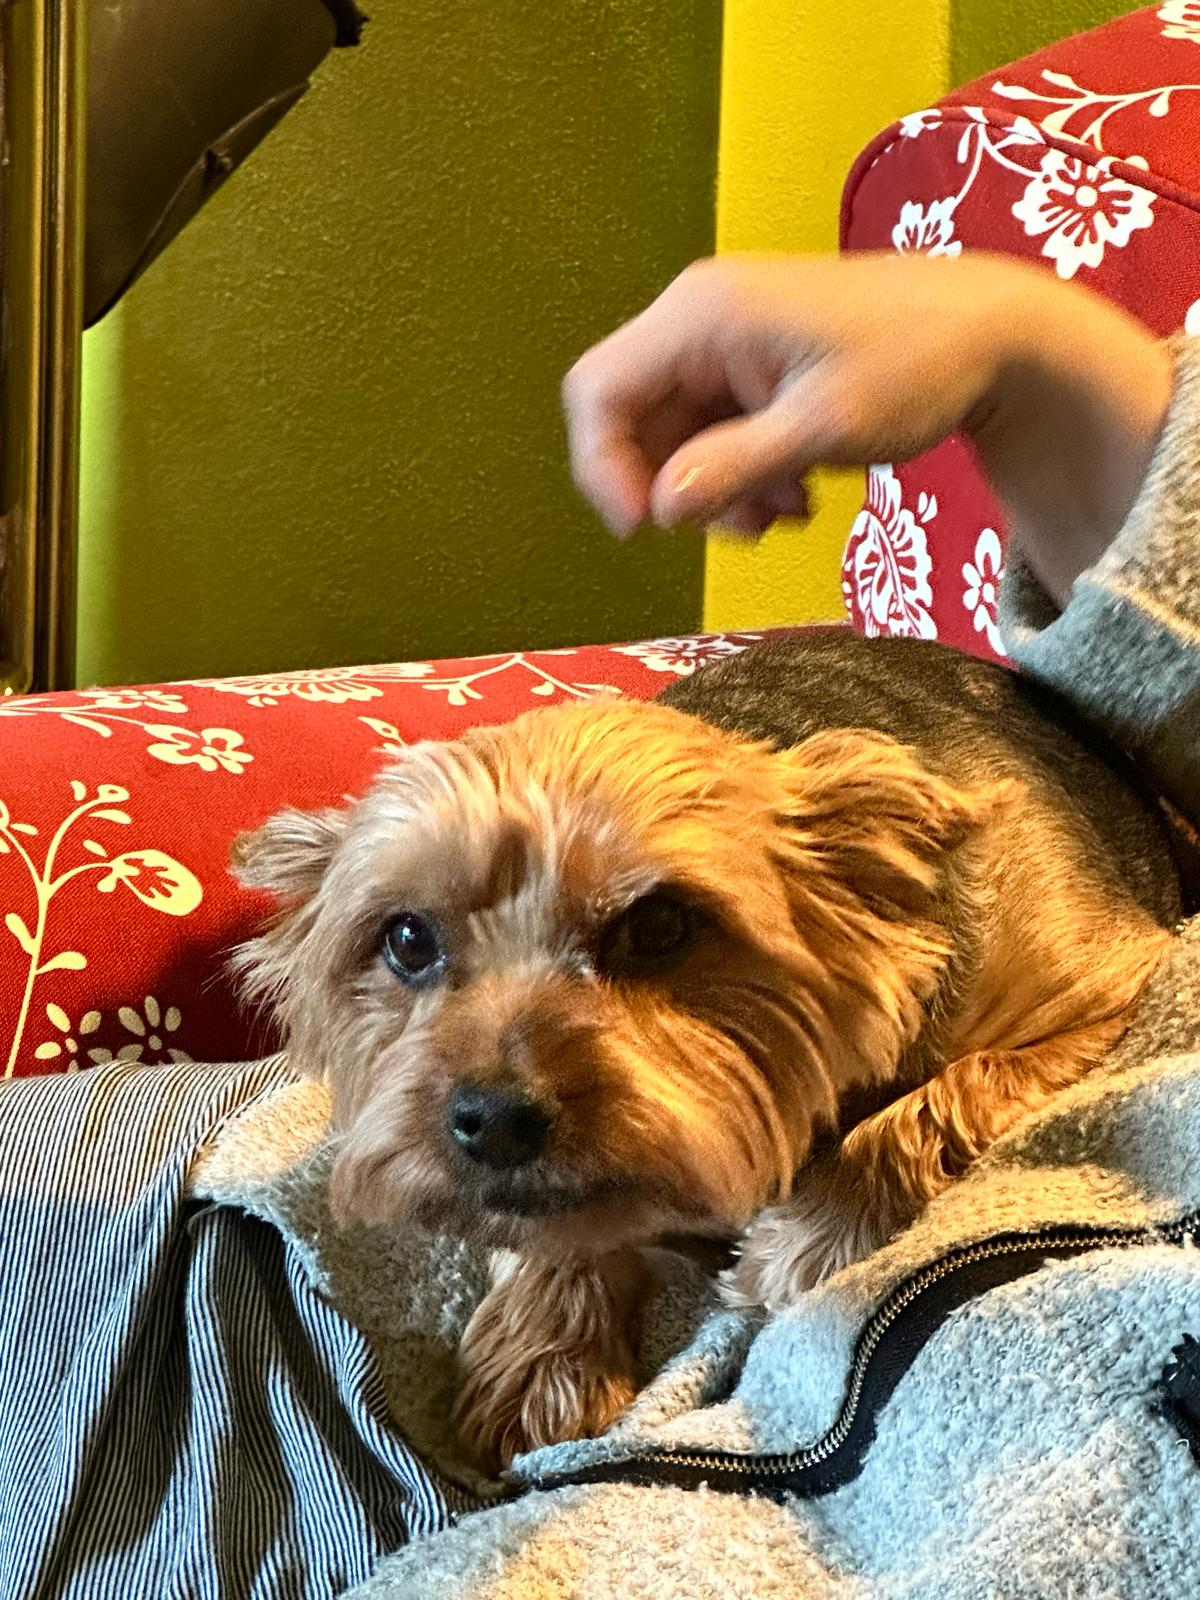stasiu: (211, 578, 905, 1458)
